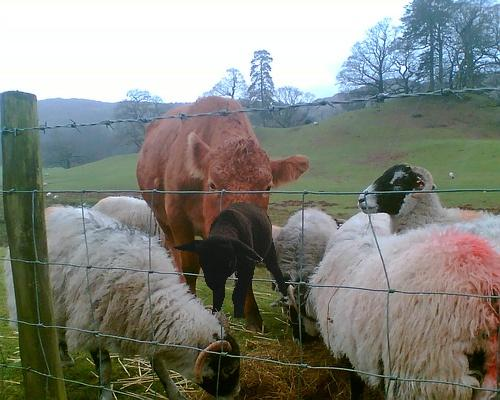tampered: (174, 203, 286, 318)
